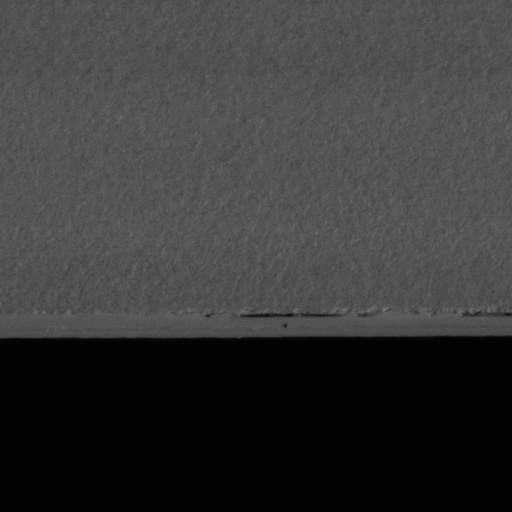jiaofeng: (237, 307, 341, 329), (454, 307, 511, 328)
